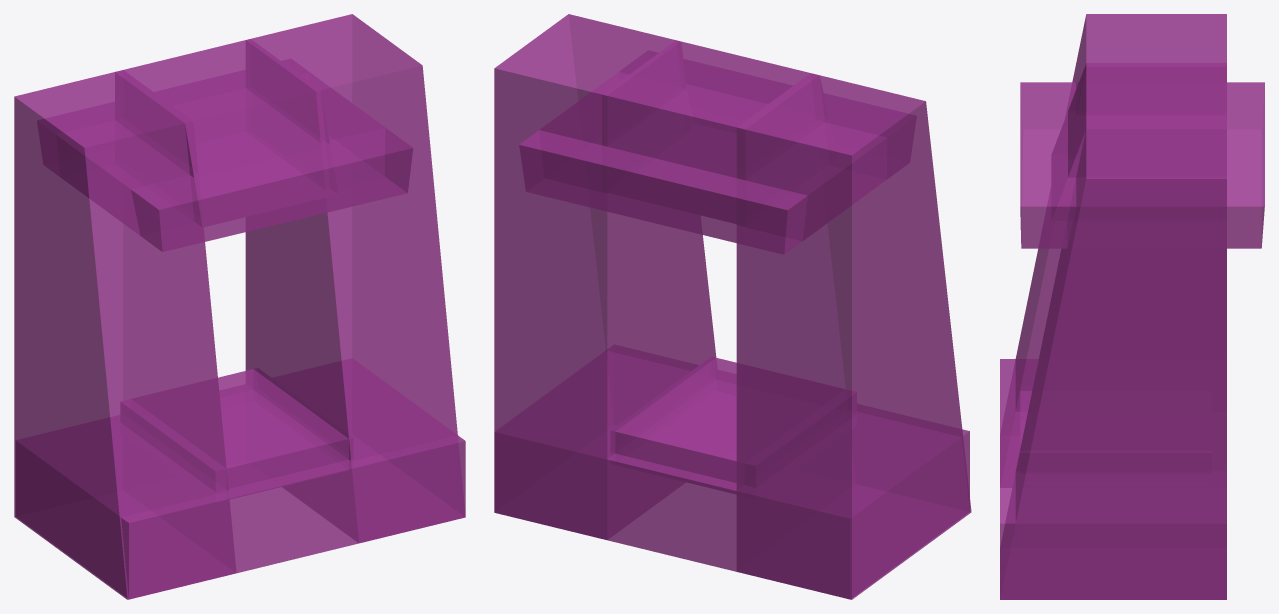
Rendered from SM_Bld_Wall_Fort_Ground_Window_02_Collision.fbx.
The picture shows the model from 3 angles, left to right: view 1: azimuth 30°, elevation 25°; view 2: azimuth 150°, elevation 25°; view 3: azimuth 270°, elevation 25°; orthographic projection. The views are drawn at different scales.
Visible parts, largest first — view 1: SM_Bld_Wall_Fort_Ground_Window_02_Collision; view 2: SM_Bld_Wall_Fort_Ground_Window_02_Collision; view 3: SM_Bld_Wall_Fort_Ground_Window_02_Collision.
Part boxes in pixels (x1,y1,x2,y2): SM_Bld_Wall_Fort_Ground_Window_02_Collision: [14, 14, 465, 599]; SM_Bld_Wall_Fort_Ground_Window_02_Collision: [494, 14, 971, 599]; SM_Bld_Wall_Fort_Ground_Window_02_Collision: [1000, 14, 1264, 599].
Size of the model in its own units: 508 by 603 by 344.
